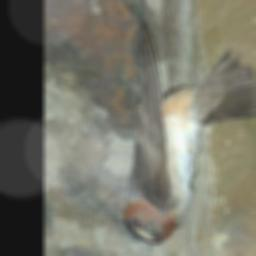Swallow: (121, 15, 256, 246)
